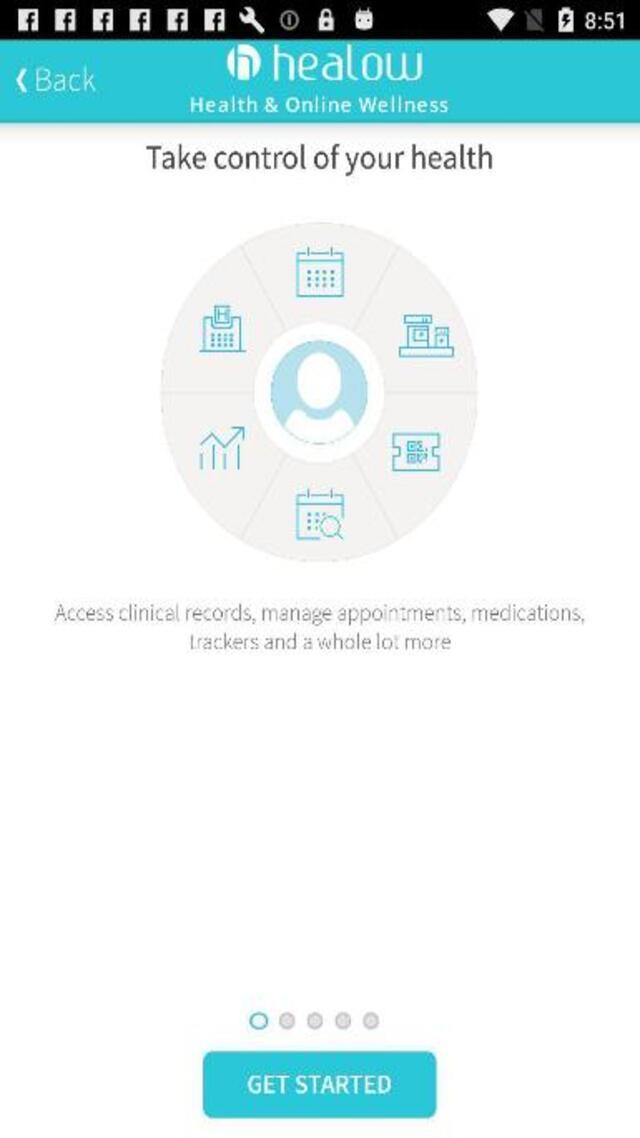Icon: (15, 69, 28, 92)
Image: (160, 223, 478, 563), (227, 44, 421, 80)
Text: (54, 603, 586, 626), (147, 144, 491, 176), (182, 630, 458, 654), (190, 97, 448, 113), (247, 1072, 396, 1099), (38, 66, 96, 91)
TextButton: (202, 1052, 436, 1118)
